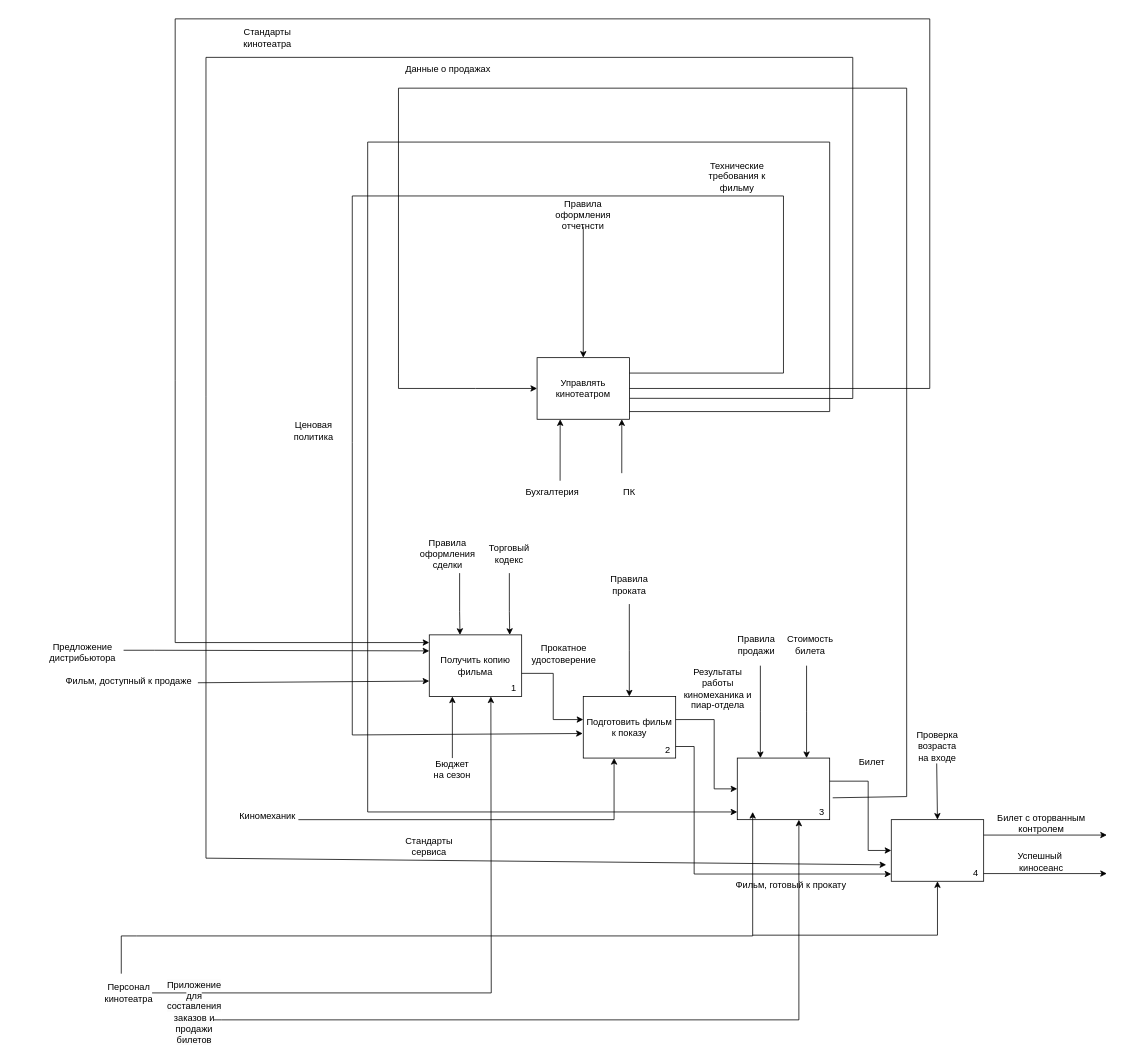
Some shapes in this 1127 by 1059 pixel diagram are drawn without their labels. The shapes that lost their labels are listed below. From the top down, each one's box as (x1, y1, x2, y2) in pixels, then its label:
(737, 757, 830, 820): Продать билеты в кассе
(891, 819, 984, 881): Пустить клиента в кинозал
